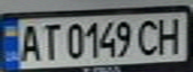0: (63, 20, 84, 60)
1: (81, 19, 100, 58)
4: (100, 18, 118, 57)
9: (115, 18, 136, 58)
A: (15, 21, 42, 62)
C: (136, 16, 163, 56)
H: (151, 15, 187, 55)
T: (36, 20, 63, 61)
